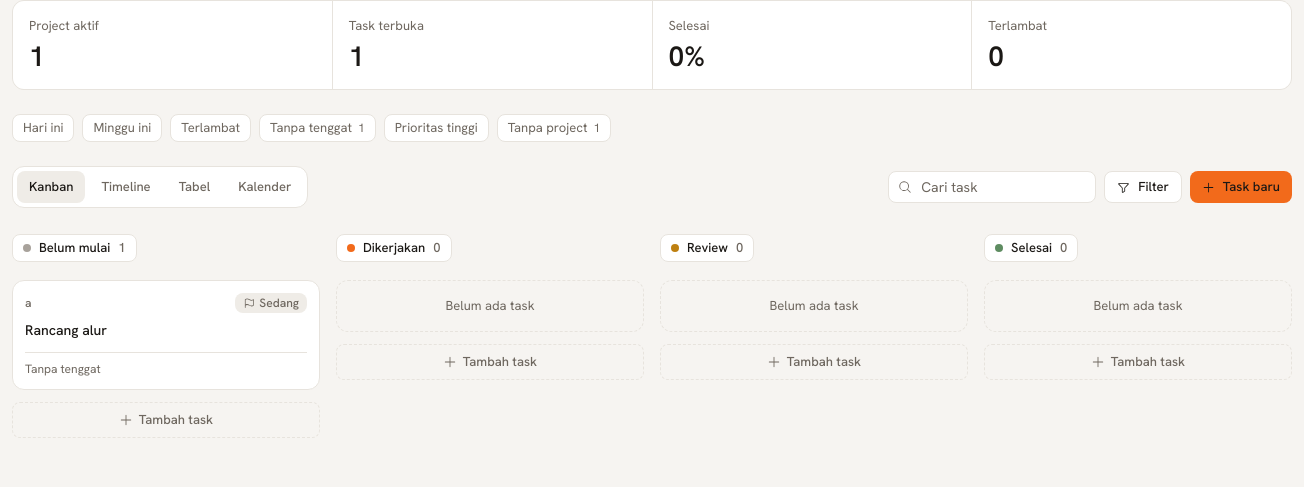
Test: task workspace empty states › says nothing matches in the kanban view, and the reset brings the tasks back
Type "tidak ada" into the search field labelled "Cari task" at (992, 187), box [888,171,1096,203]
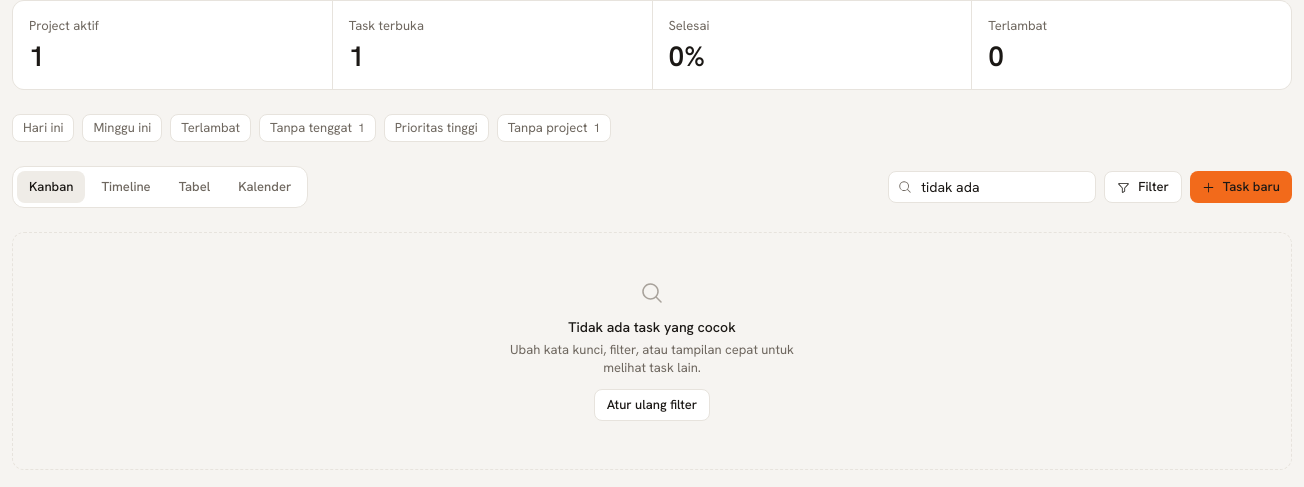
Now the text "Tidak ada task yang cocok" is shown, box [568,318,736,336]
Click the button "Atur ulang filter" at (652, 405), box [594,389,710,421]
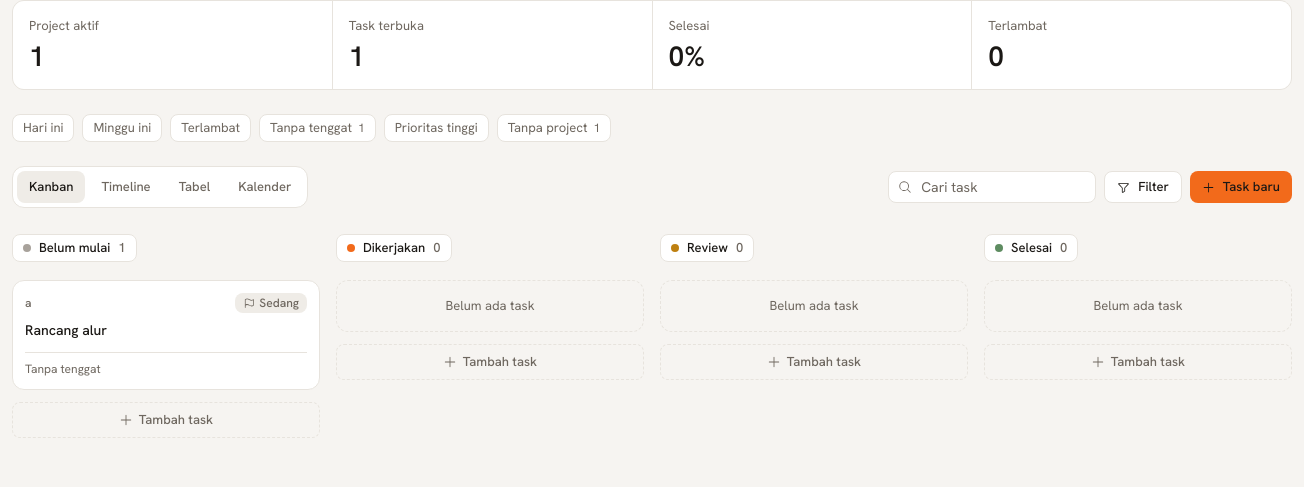
Now the text "Tidak ada task yang cocok" is gone
